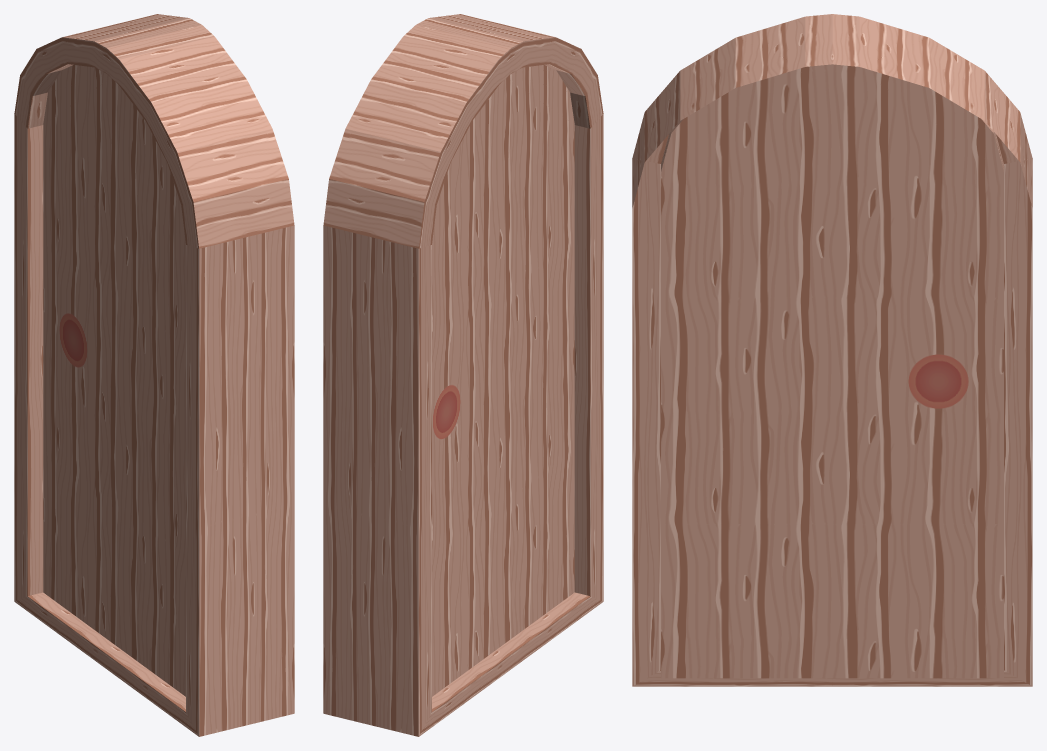
File: OC_House1_01.fbx
The picture shows the model from 3 angles, left to right: view 1: azimuth 30°, elevation 25°; view 2: azimuth 150°, elevation 25°; view 3: azimuth 270°, elevation 25°; orthographic projection. The views are drawn at different scales.
Visible parts, largest first — view 1: Door; view 2: Door; view 3: Door.
Part boxes in pixels (x1,y1,x2,y2): Door: [14, 14, 294, 736]; Door: [323, 14, 603, 736]; Door: [632, 14, 1032, 686].
Bounding box in the file's own units: 0.0981 × 0.6104 × 0.329.
